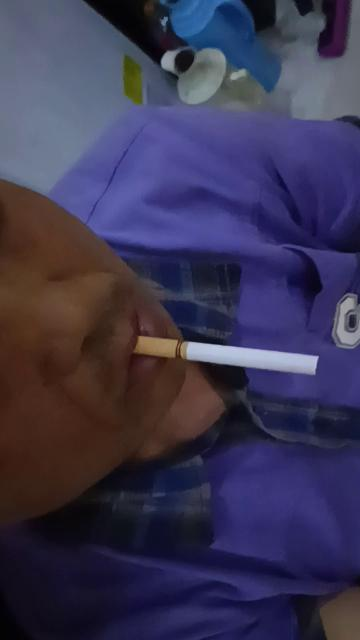Cigarette: (134, 335, 323, 377)
